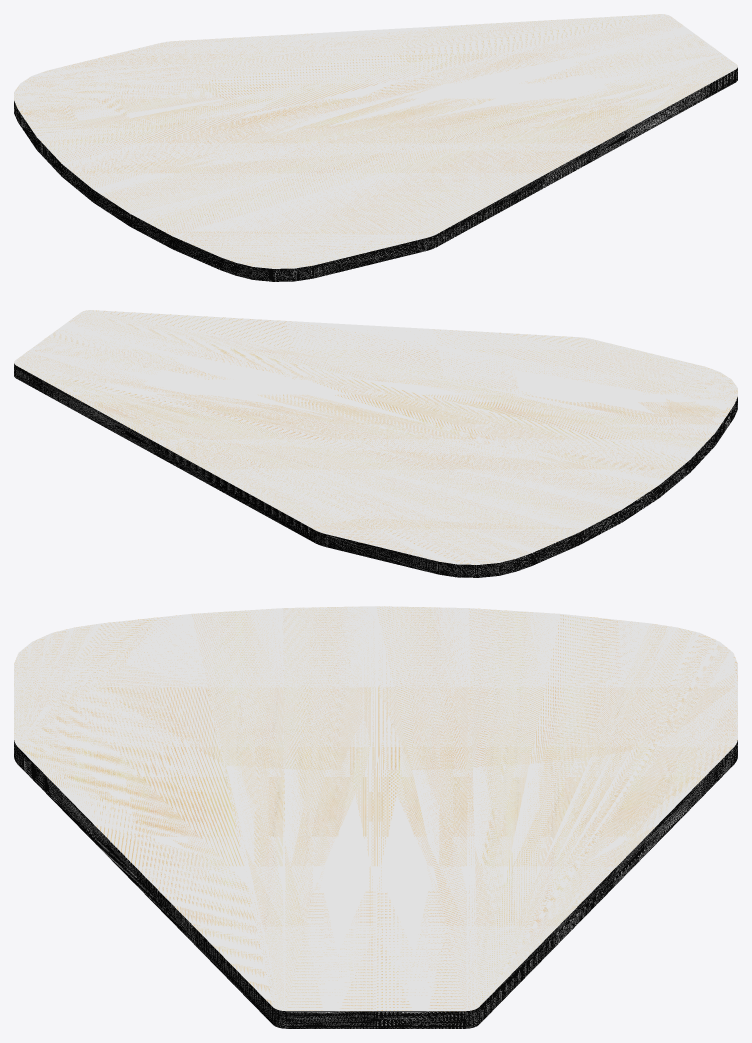
The model's file is original-1.obj.
The picture shows the model from 3 angles, top to bottom: view 1: azimuth 30°, elevation 25°; view 2: azimuth 150°, elevation 25°; view 3: azimuth 270°, elevation 25°; orthographic projection. The views are drawn at different scales.
Parts seen in each view (by area): view 1: CGM_Base_table_Topboard_Middledesk_Extended_500mm_22_5_1/CGM_Bas; view 2: CGM_Base_table_Topboard_Middledesk_Extended_500mm_22_5_1/CGM_Bas; view 3: CGM_Base_table_Topboard_Middledesk_Extended_500mm_22_5_1/CGM_Bas.
Boxes of the visible parts, x1,y1,x2,y2 form: CGM_Base_table_Topboard_Middledesk_Extended_500mm_22_5_1/CGM_Bas: [14, 14, 737, 281]; CGM_Base_table_Topboard_Middledesk_Extended_500mm_22_5_1/CGM_Bas: [14, 310, 737, 577]; CGM_Base_table_Topboard_Middledesk_Extended_500mm_22_5_1/CGM_Bas: [14, 606, 737, 1028].
Bounding box in the file's own units: 1.72 × 0.0349 × 1.3.
Materials: 3 (1 with a texture image).
